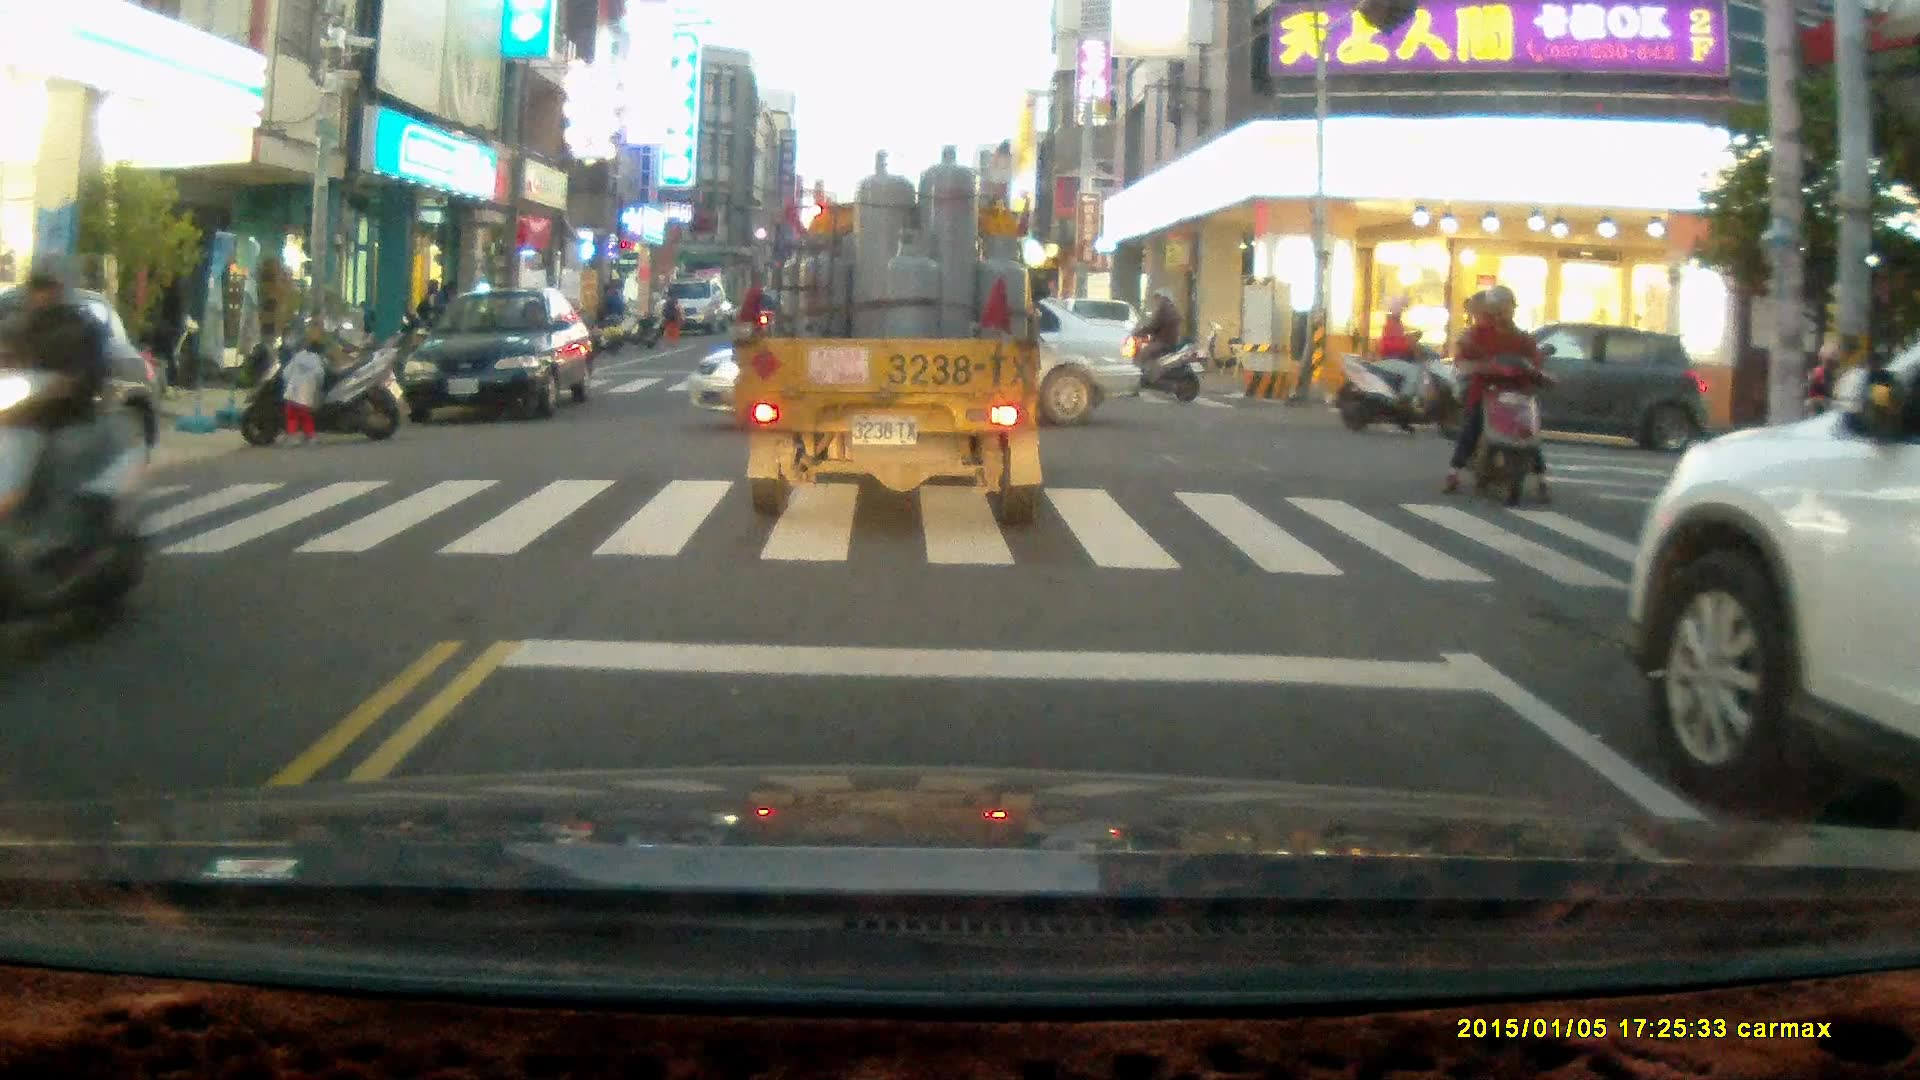pedestrian: (279, 339, 327, 450), (602, 278, 629, 341), (661, 287, 684, 345)
rider: (0, 249, 145, 663), (1441, 285, 1557, 510), (1330, 296, 1470, 437), (1748, 339, 1862, 459), (1107, 284, 1202, 404)
vehicle: (1619, 335, 1920, 814), (731, 141, 1046, 527), (1418, 324, 1708, 448), (400, 290, 597, 422), (656, 280, 730, 335)
